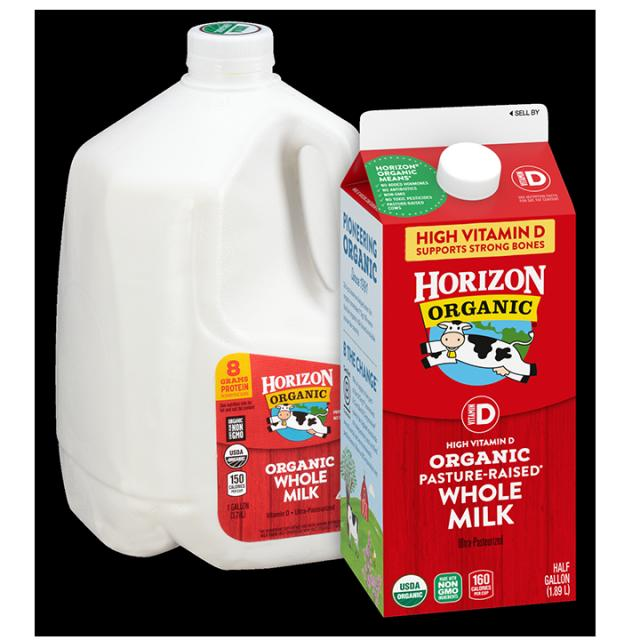Milk carton/jug: (49, 18, 419, 580), (338, 100, 584, 640)
